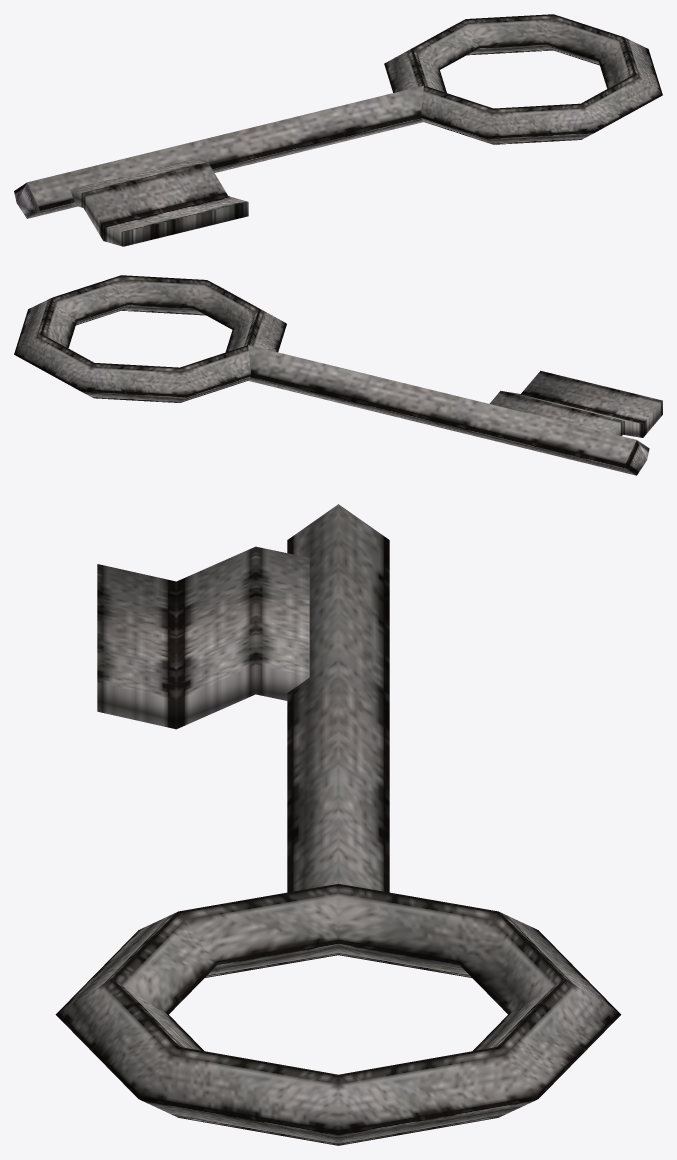
File: ITKE_KEY_01.glb
3 renders of one model, top to bottom at view 1: azimuth 30°, elevation 25°; view 2: azimuth 150°, elevation 25°; view 3: azimuth 270°, elevation 25°, orthographic. The views are drawn at different scales.
Visible parts, largest first — view 1: Mesh; view 2: Mesh; view 3: Mesh.
Part boxes in pixels (x1,y1,x2,y2): Mesh: (14, 14, 662, 246); Mesh: (14, 275, 662, 475); Mesh: (55, 504, 621, 1145).
Size of the model in its own units: 0.2527 by 0.0141 by 0.1.
1 material, 1 textured.
